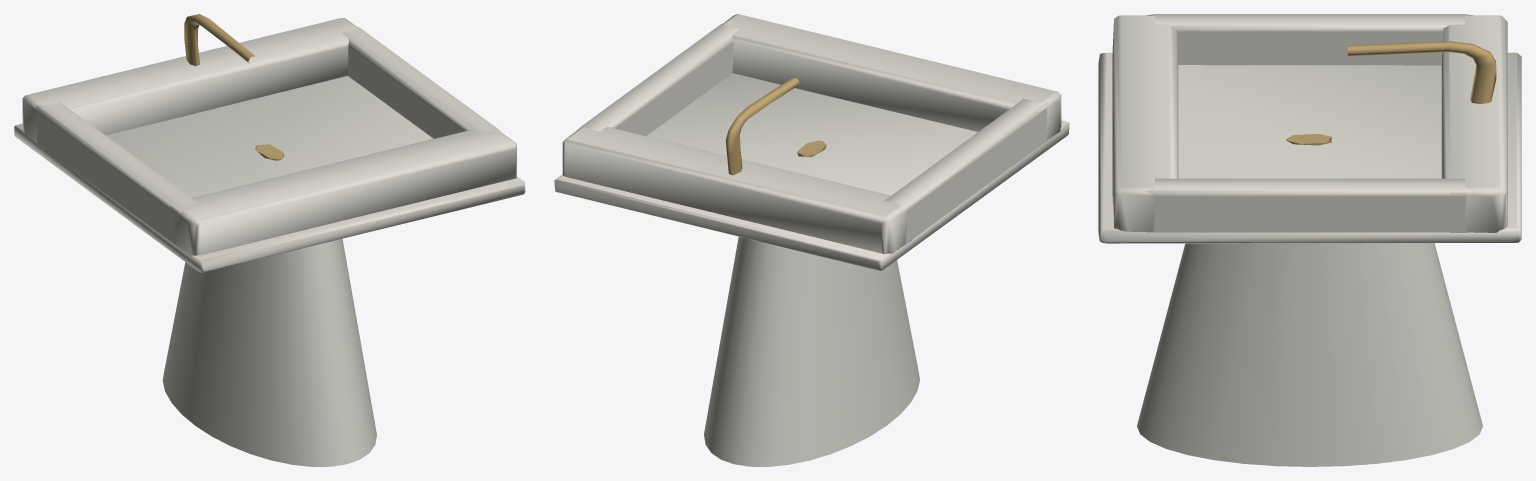
The model's file is sink-13-2.lod.glb.
3 renders of one model, left to right at view 1: azimuth 30°, elevation 25°; view 2: azimuth 150°, elevation 25°; view 3: azimuth 270°, elevation 25°, orthographic. The views are drawn at different scales.
Parts seen in each view (by area): view 1: part (×2); view 2: part (×2); view 3: part (×2).
Part boxes in pixels (<box>): part (×2): <box>14,14,525,466</box>; part (×2): <box>554,14,1069,466</box>; part (×2): <box>1098,14,1521,466</box>.
Size of the model in its own units: 1 by 1 by 1.
